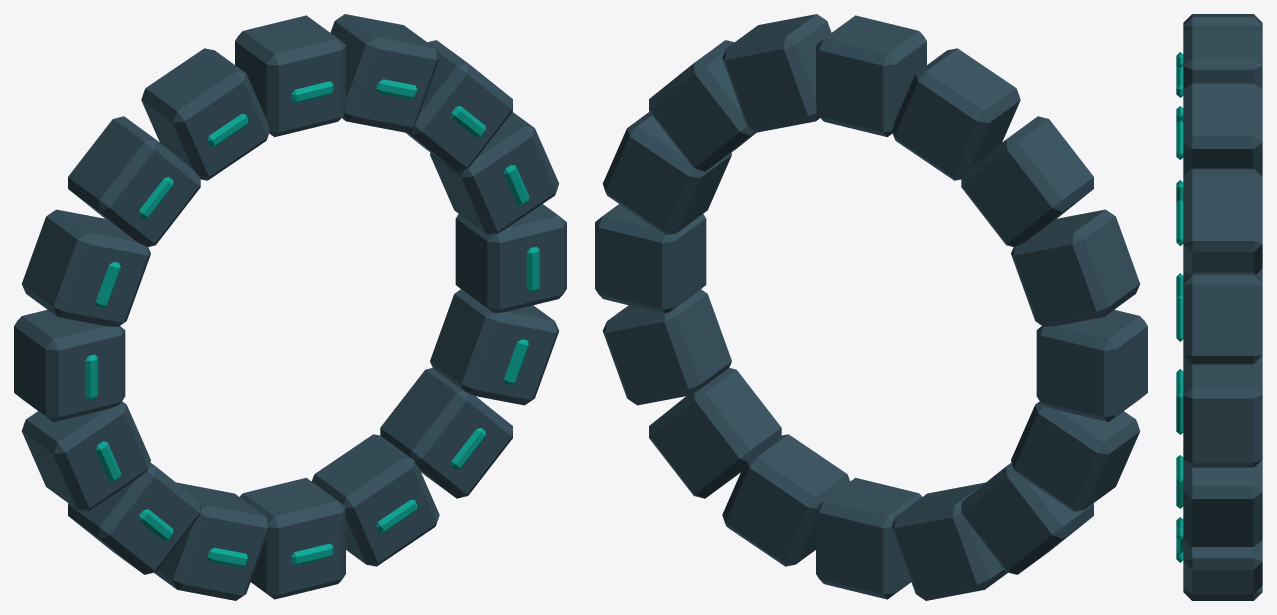
Rendered from 04_sunken_rotor_ring.obj.
3 views of the same model, side by side, from view 1: azimuth 30°, elevation 25°; view 2: azimuth 150°, elevation 25°; view 3: azimuth 270°, elevation 25° (orthographic). The views are drawn at different scales.
Parts seen in each view (by area): view 1: 04_sunken_rotor_ring; view 2: 04_sunken_rotor_ring; view 3: 04_sunken_rotor_ring.
Boxes of the visible parts, x1,y1,x2,y2 form: 04_sunken_rotor_ring: (14, 14, 566, 600); 04_sunken_rotor_ring: (595, 14, 1147, 600); 04_sunken_rotor_ring: (1176, 14, 1262, 600).
Size of the model in its own units: 5.9 by 5.9 by 0.87.
1 material, 1 textured.
